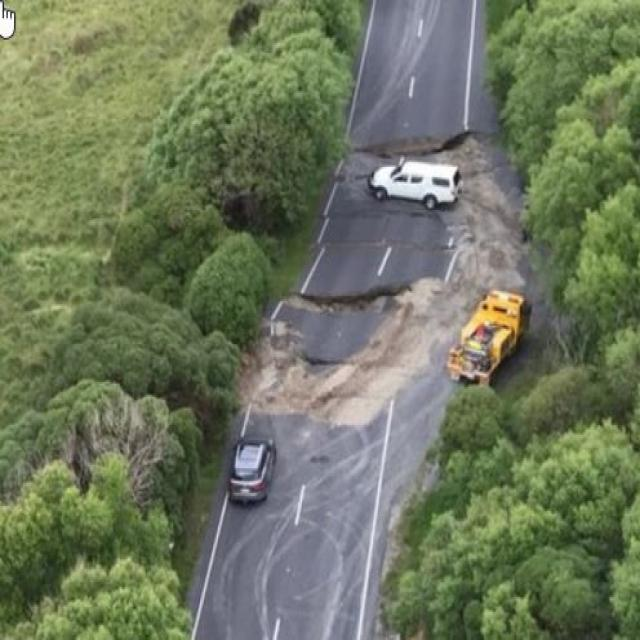traffic_incident: (292, 109, 511, 293)
